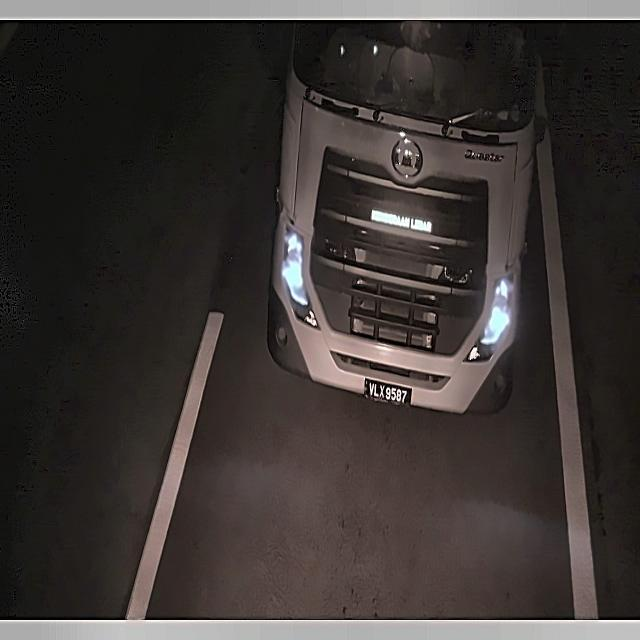car: (360, 372, 414, 411)
